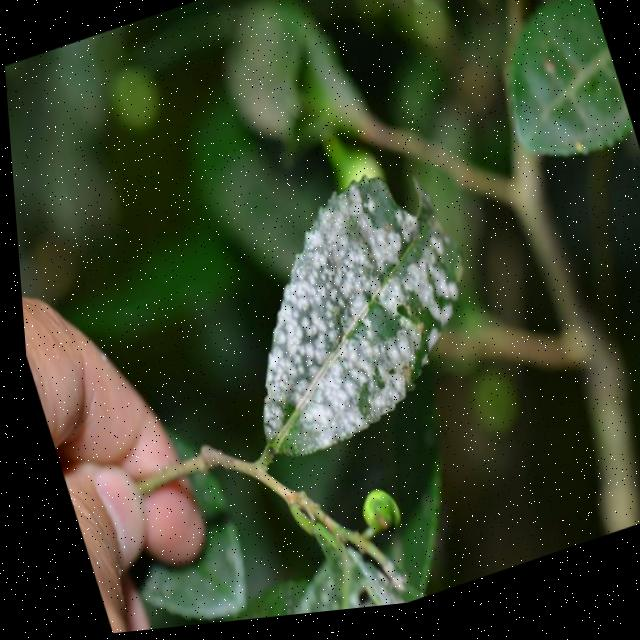Tea algae leaf spot: (217, 168, 464, 455)
